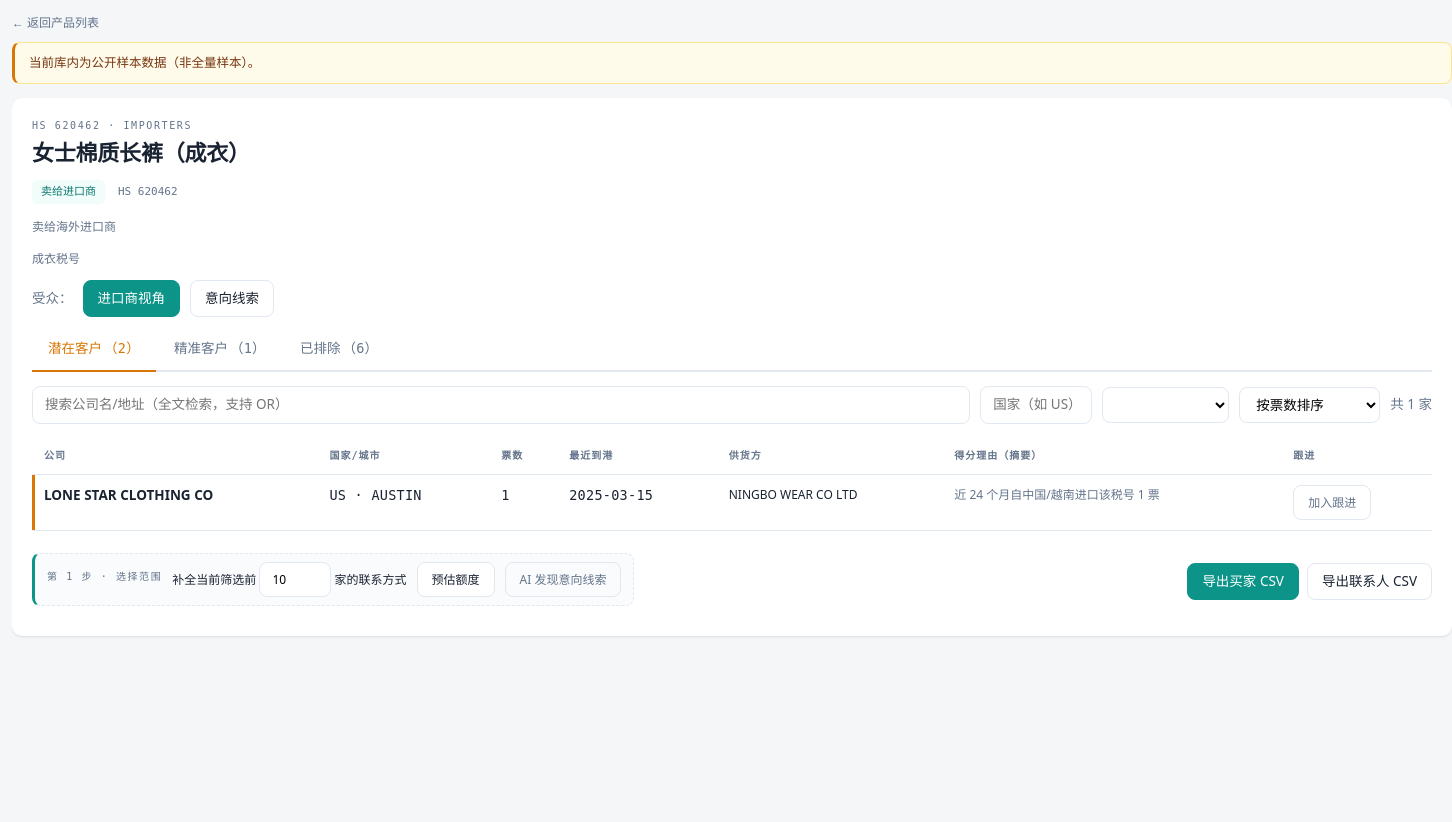
Test: 产品详情页（用户可见结果） › 点击精准页签切换到精准客户
This screenshot has width=1452, height=822.
Expected: the text "LONE STAR CLOTHING CO" is shown, [44,486,213,504]
Click the tab with test id "tab-precise" at (220, 351), box [158,329,282,372]
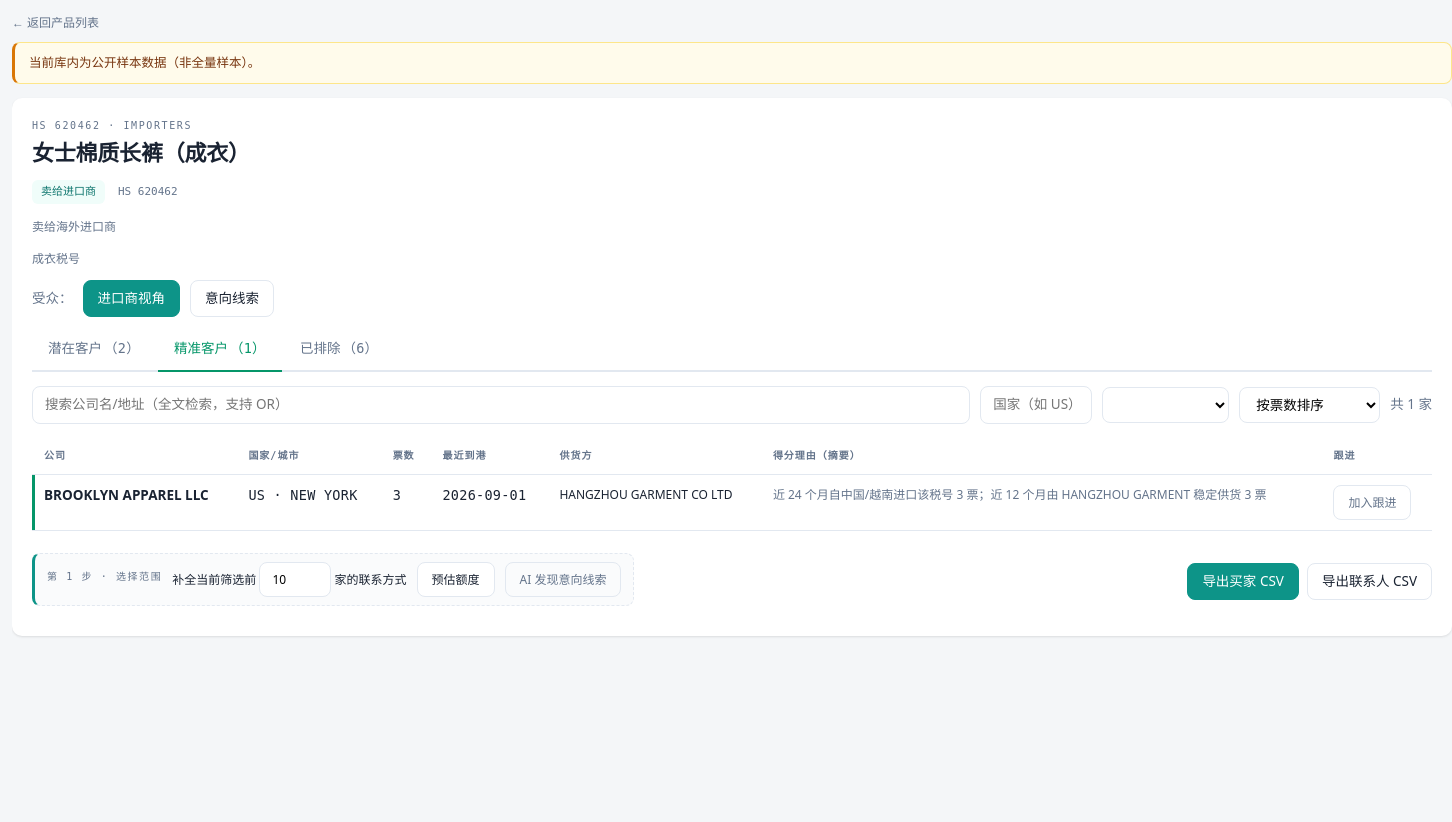
Now the text "BROOKLYN APPAREL LLC" is shown, box [44,486,209,504]
Now the button "LONE STAR CLOTHING CO" is gone
